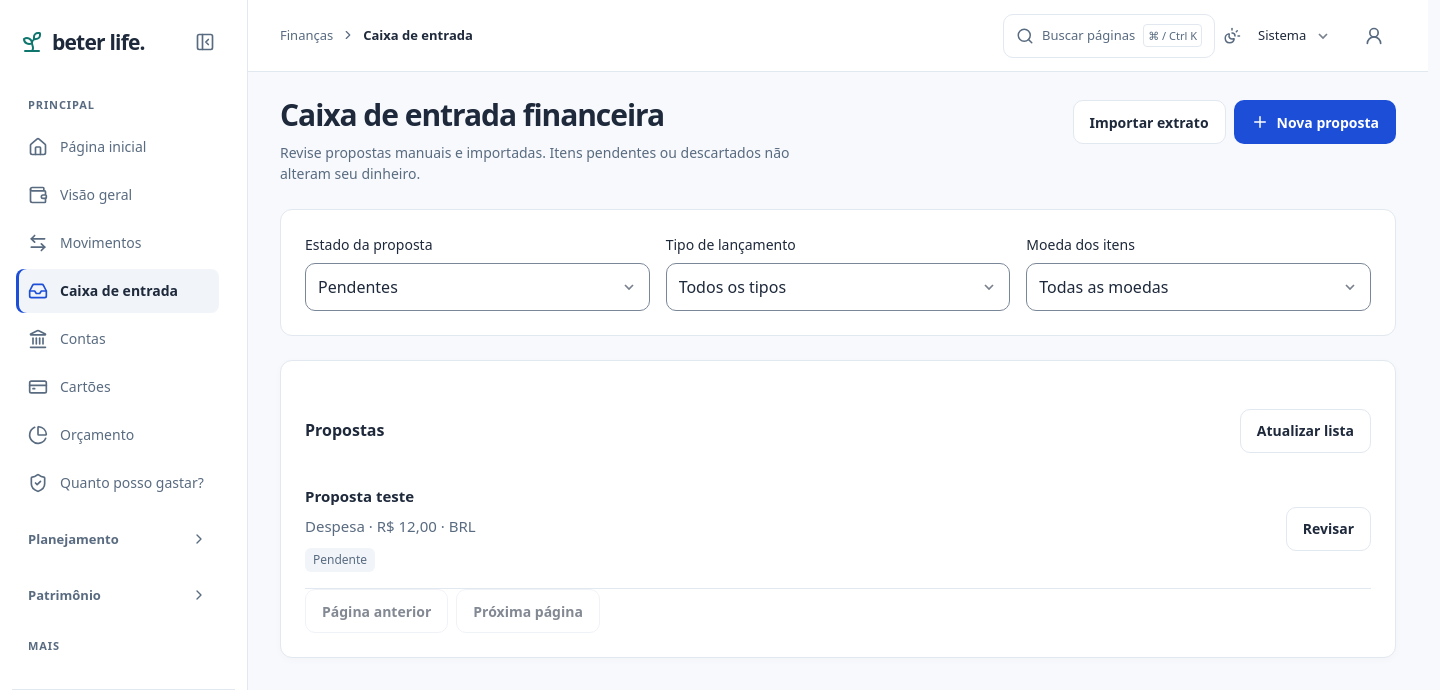
Test case: Inbox protected UI with generated transport contracts › edits the reviewed version, then confirms exactly once and exposes processed history
The image size is (1440, 690).
Click the button with aria-label "Revisar Proposta teste". click: [1328, 529]
box: [1286, 507, 1371, 551]
(page scrolled)
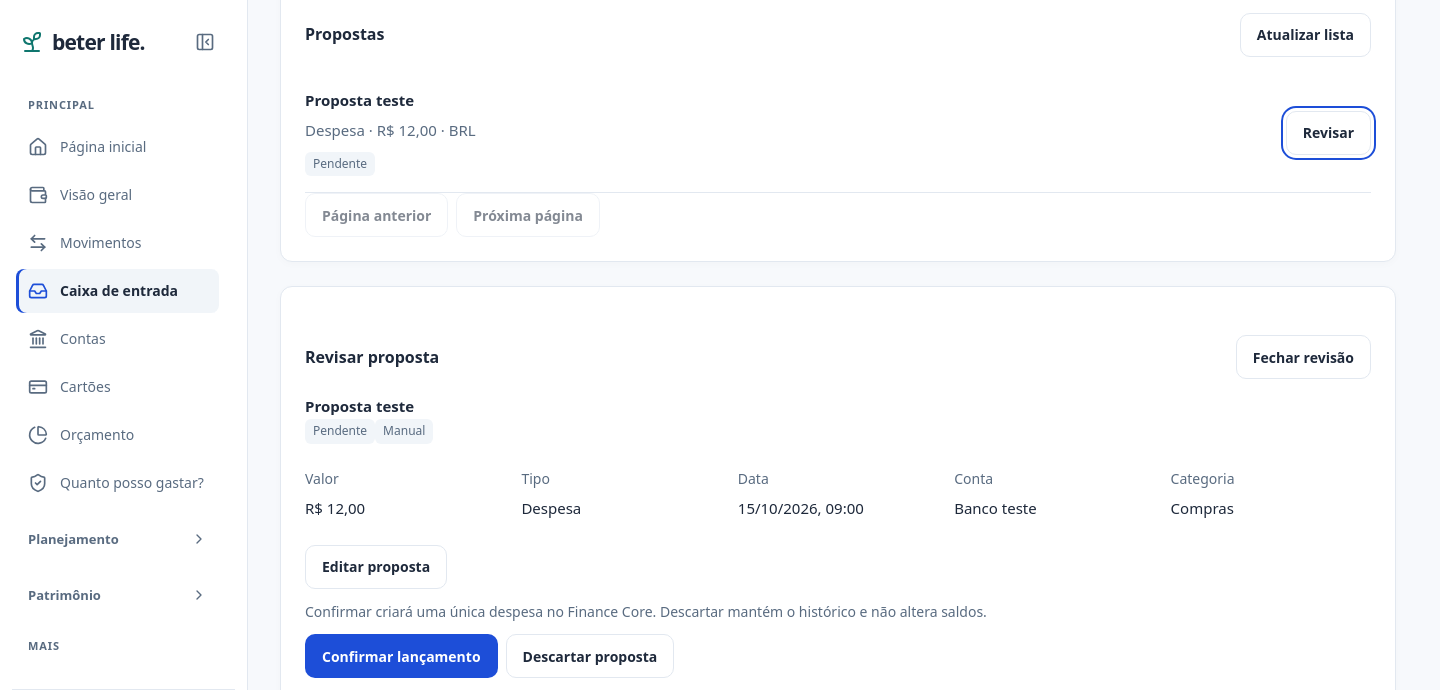
Click the button "Editar proposta". click: [376, 567]
box: [305, 545, 447, 589]
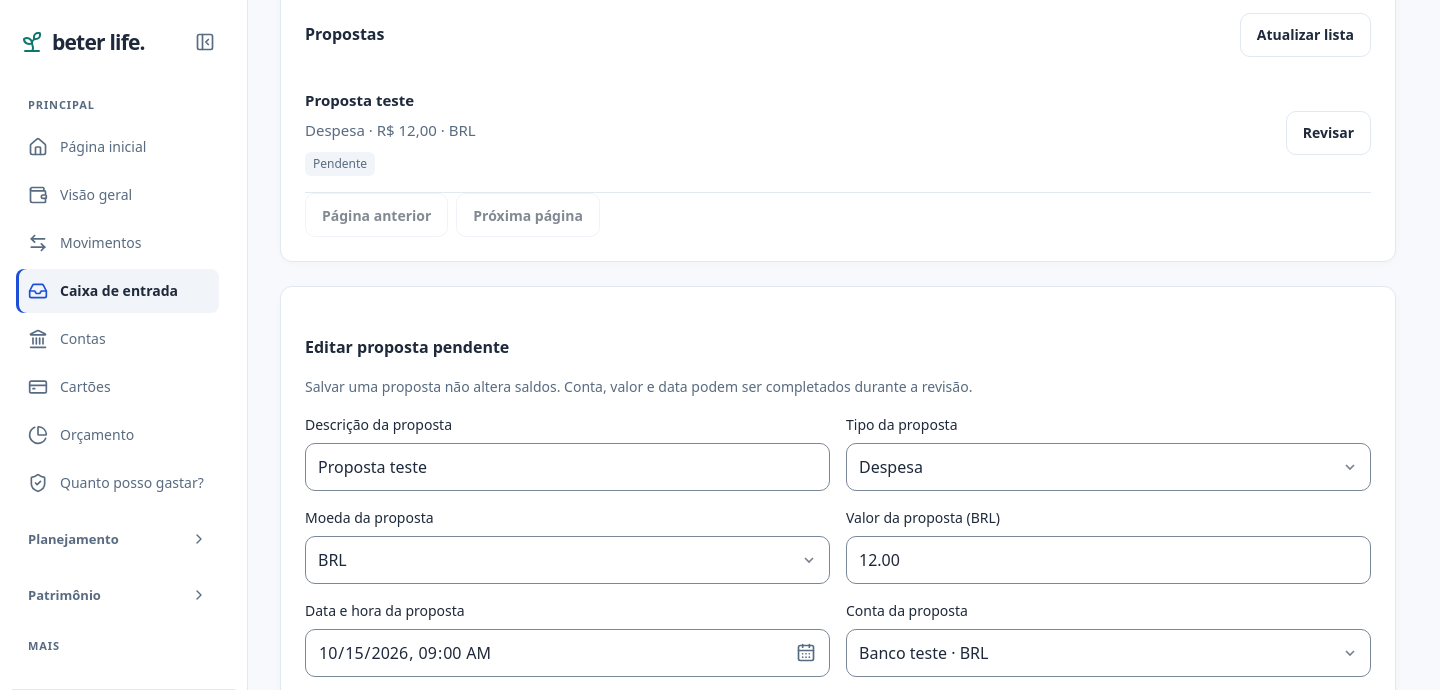
Expected: the field labelled "Valor da proposta (BRL)" holds "12.00"
Replace the text in the field labelled "Valor da proposta (BRL)" with "35,40". click: [1108, 560]
box: [846, 536, 1371, 584]
(page scrolled)
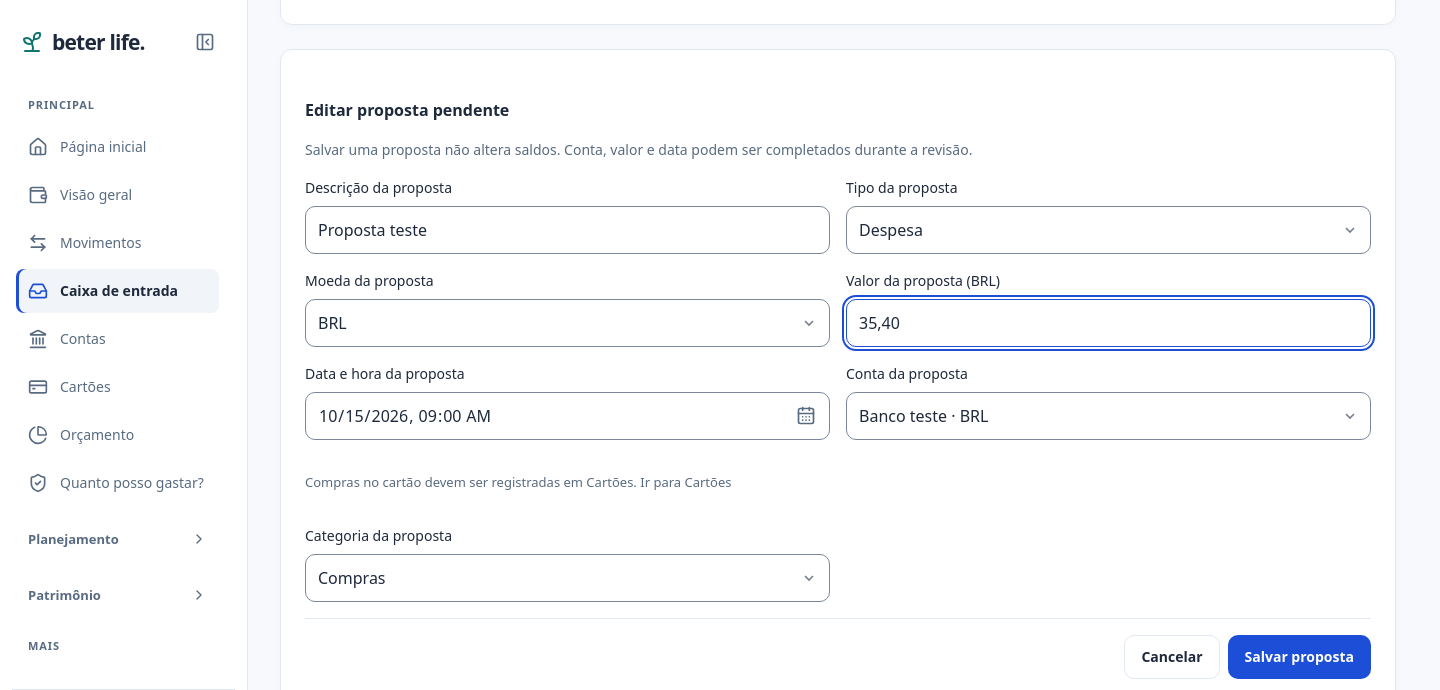
Click the button "Salvar proposta". click: [1299, 657]
box: [1228, 635, 1371, 679]
(page scrolled)
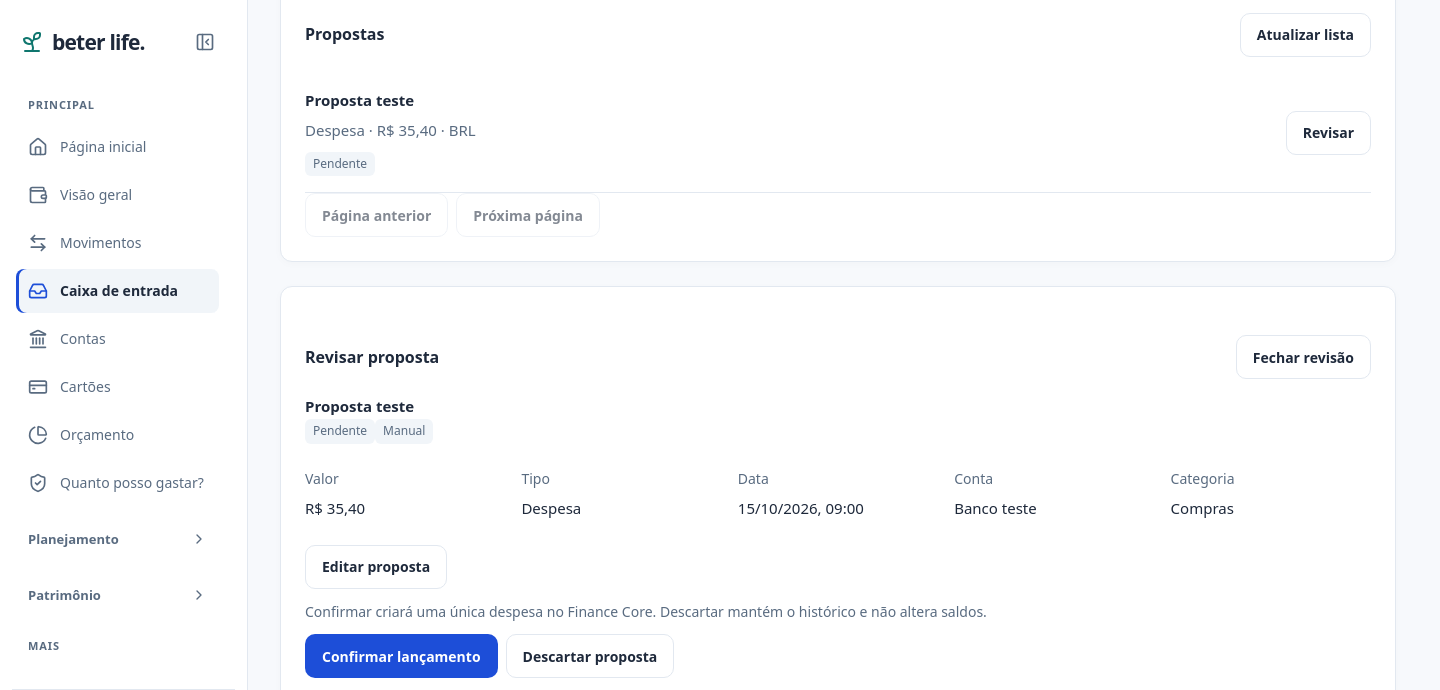
Expected: the heading "Revisar proposta" is shown, [305, 345, 439, 370]
Double-click the button "Confirmar lançamento" at [401, 656], box [305, 634, 498, 678]
(page scrolled)
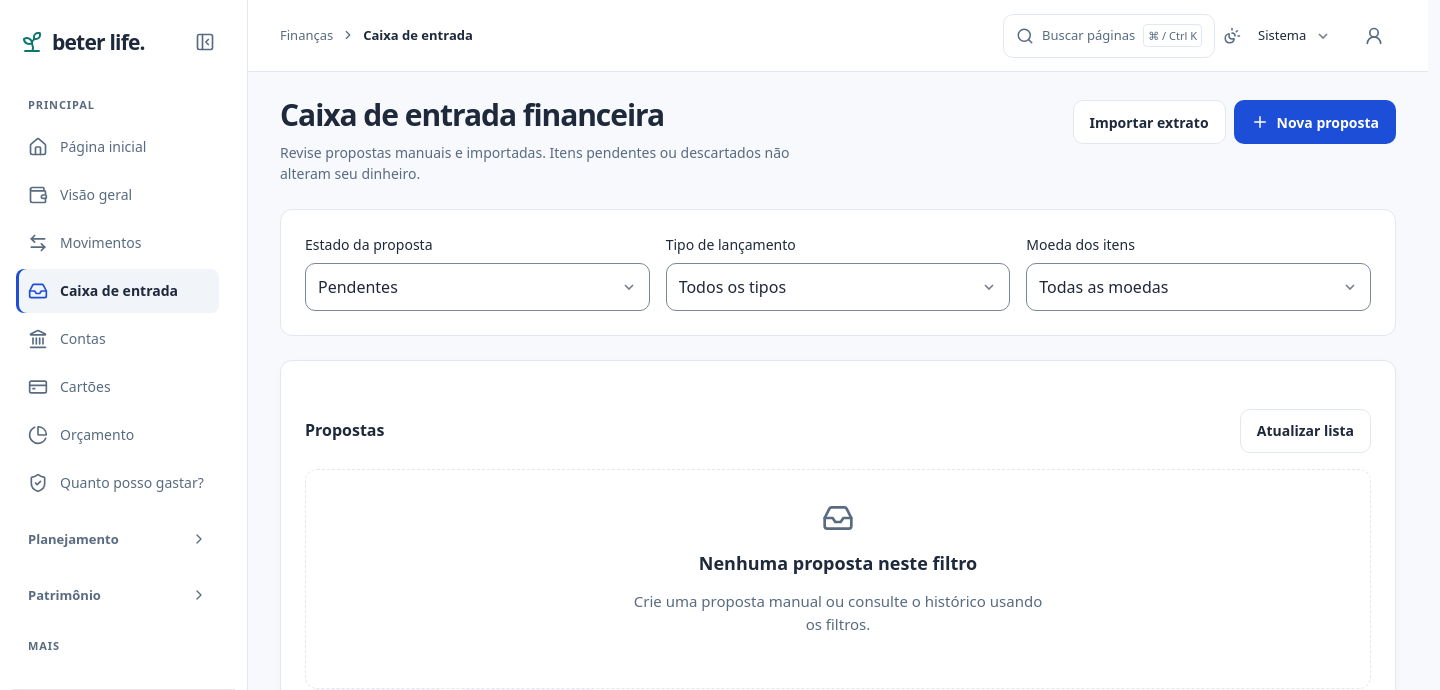
Select "Confirmados" in the dropdown labelled "Estado da proposta". click: [477, 287]
box: [305, 263, 650, 311]
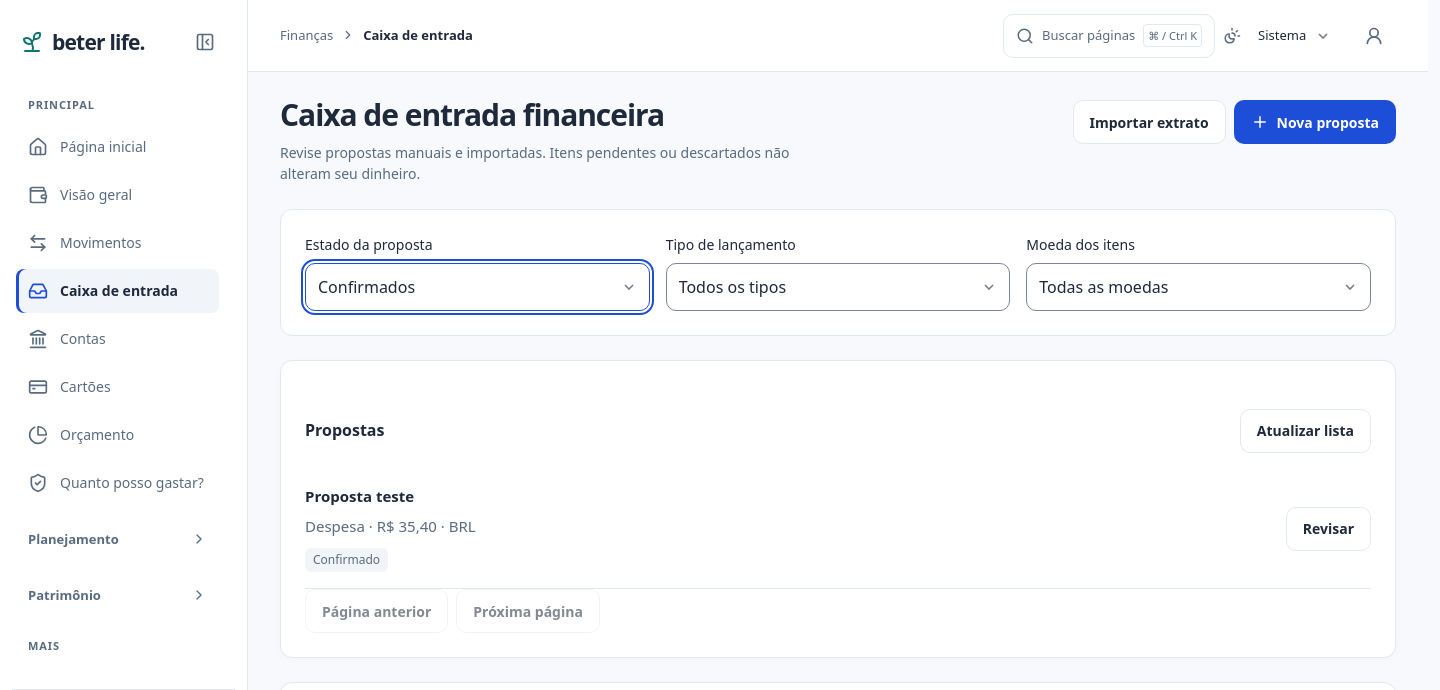
Expected: the button "Editar proposta" is not shown
Expected: the button with aria-label "Revisar Proposta teste" is shown, [1286, 507, 1371, 551]
